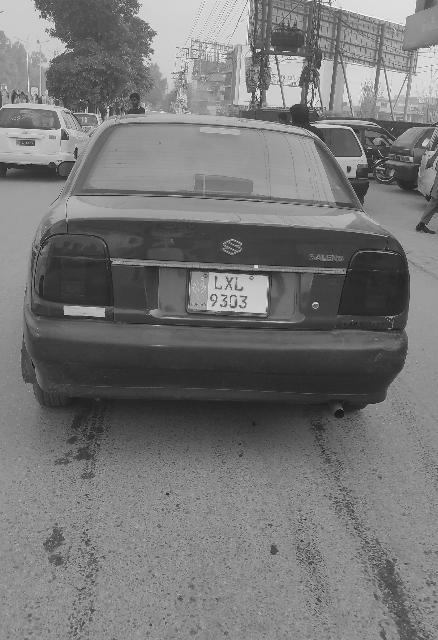Number: (210, 276, 252, 308)
